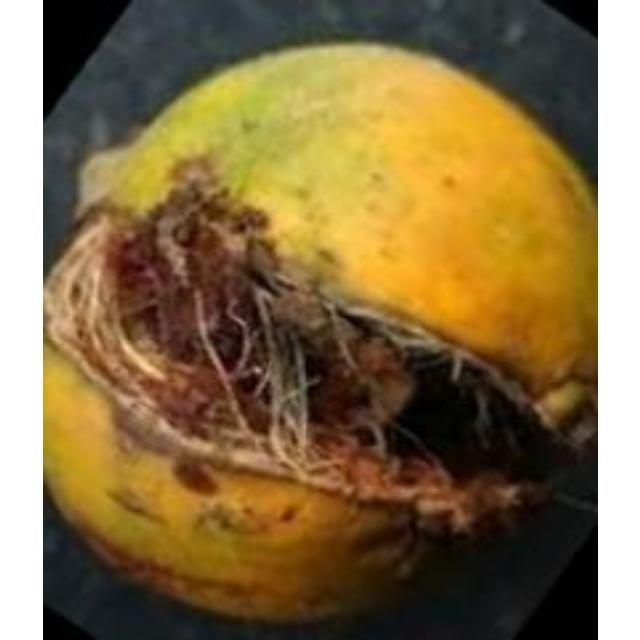damaged: (42, 40, 594, 627)
